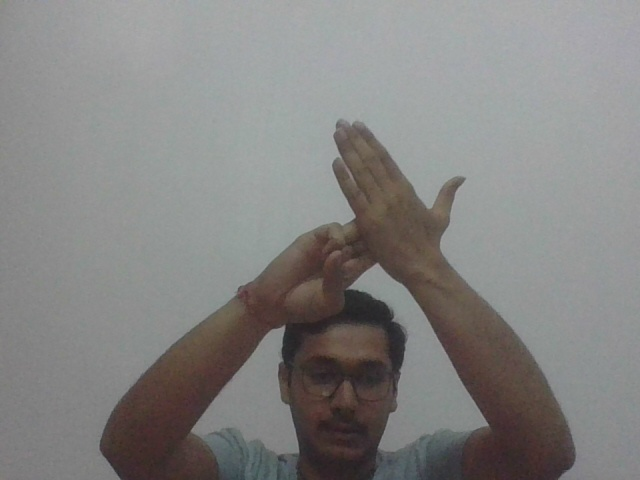M: (294, 118, 471, 293)
